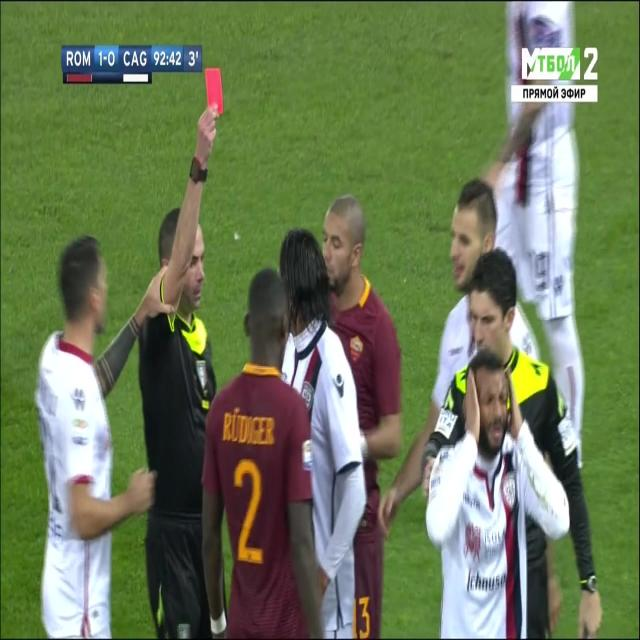Player: (36, 219, 159, 640), (205, 265, 322, 639), (425, 347, 572, 640), (316, 193, 410, 640), (274, 212, 368, 635), (499, 2, 591, 333), (420, 164, 495, 412)
Referee: (136, 97, 229, 640), (434, 253, 572, 440)
